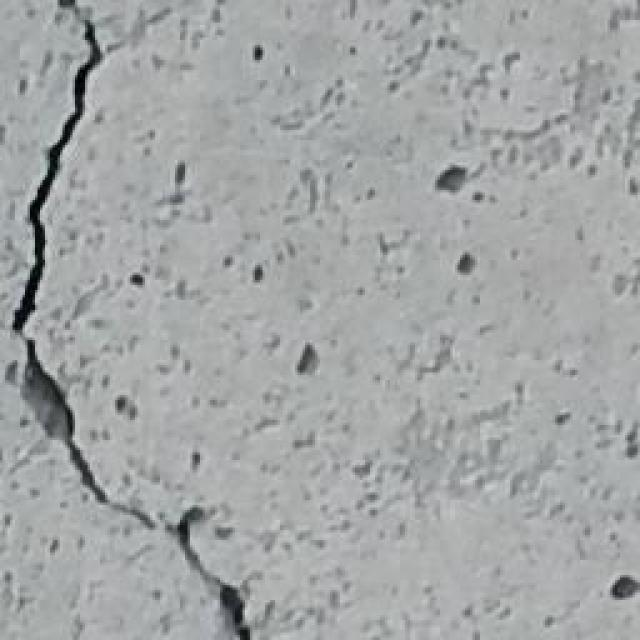concrete-crack: (3, 19, 254, 638)
